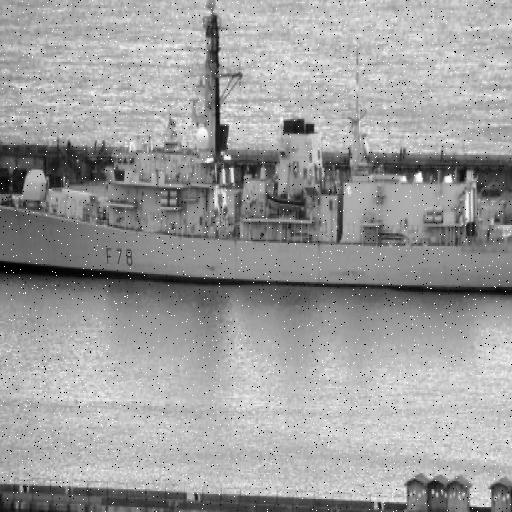Fragata: (1, 1, 512, 304)
